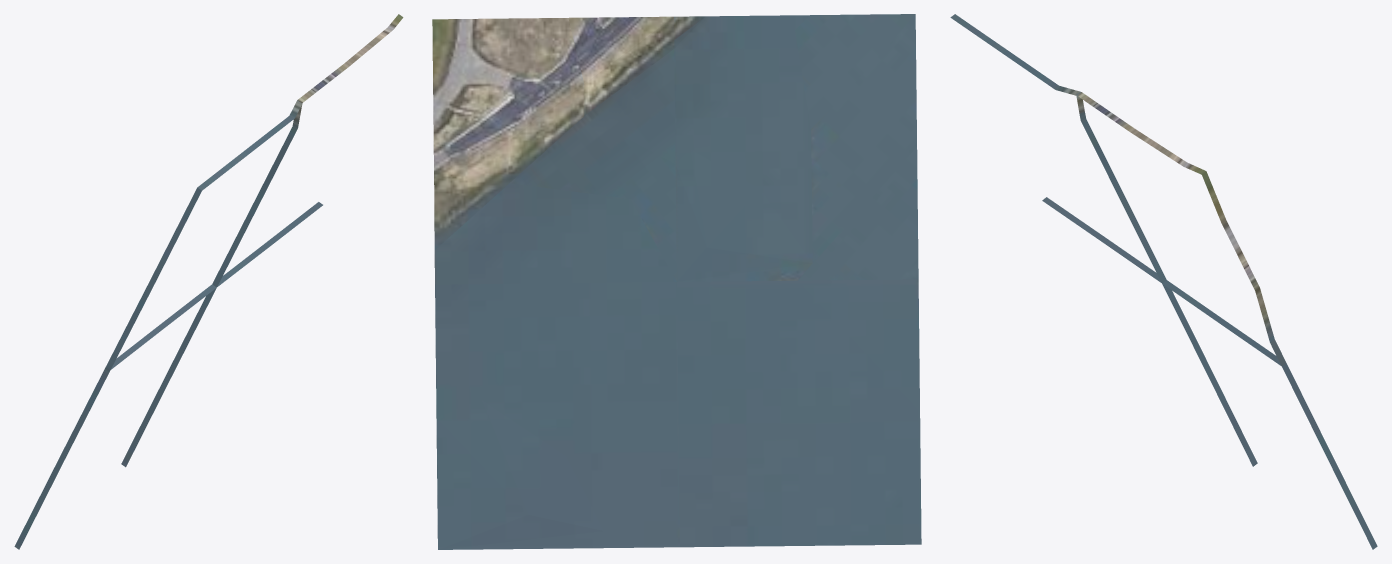
3 views of the same model, side by side, from view 1: azimuth 30°, elevation 25°; view 2: azimuth 150°, elevation 25°; view 3: azimuth 270°, elevation 25° (orthographic). The views are drawn at different scales.
Bounding box in the file's own units: 151 × 140 × 129.
1 material, 1 textured.
